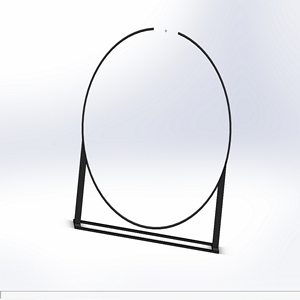circle: (72, 25, 233, 256)
